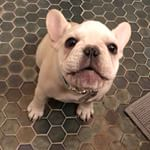puppy: (24, 7, 137, 126)
